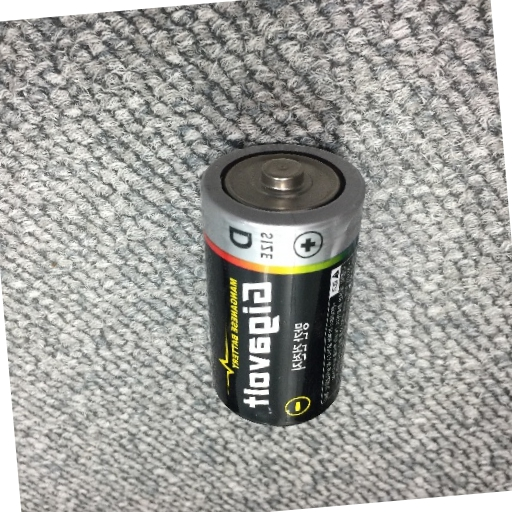Battery_0: (190, 130, 379, 434)
